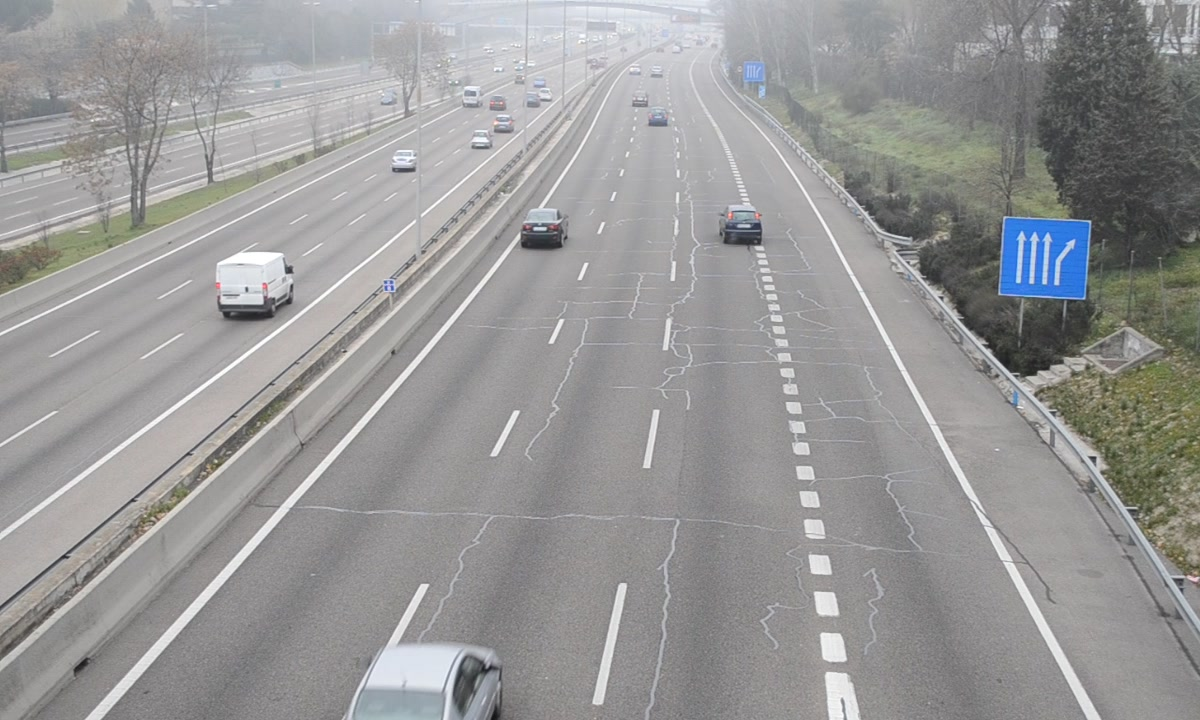car: (520, 208, 567, 246), (722, 205, 762, 243)
